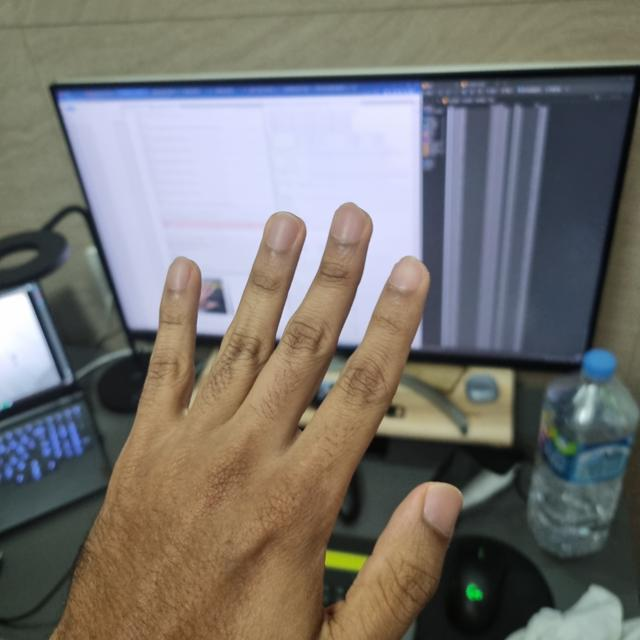Paper: (49, 203, 459, 639)
